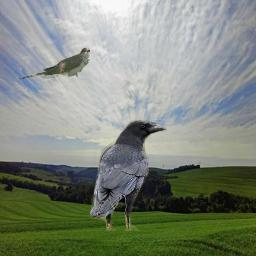Crow: (88, 120, 167, 231)
Cuckoo: (17, 47, 90, 80)
